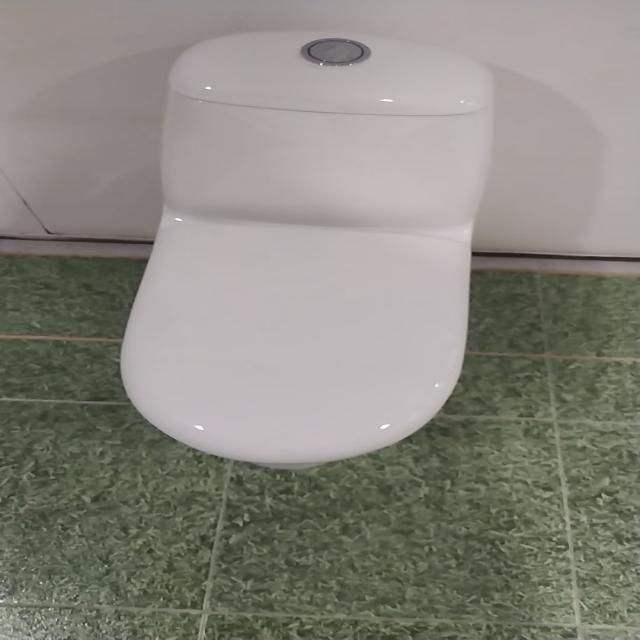toilet: (118, 29, 497, 469)
